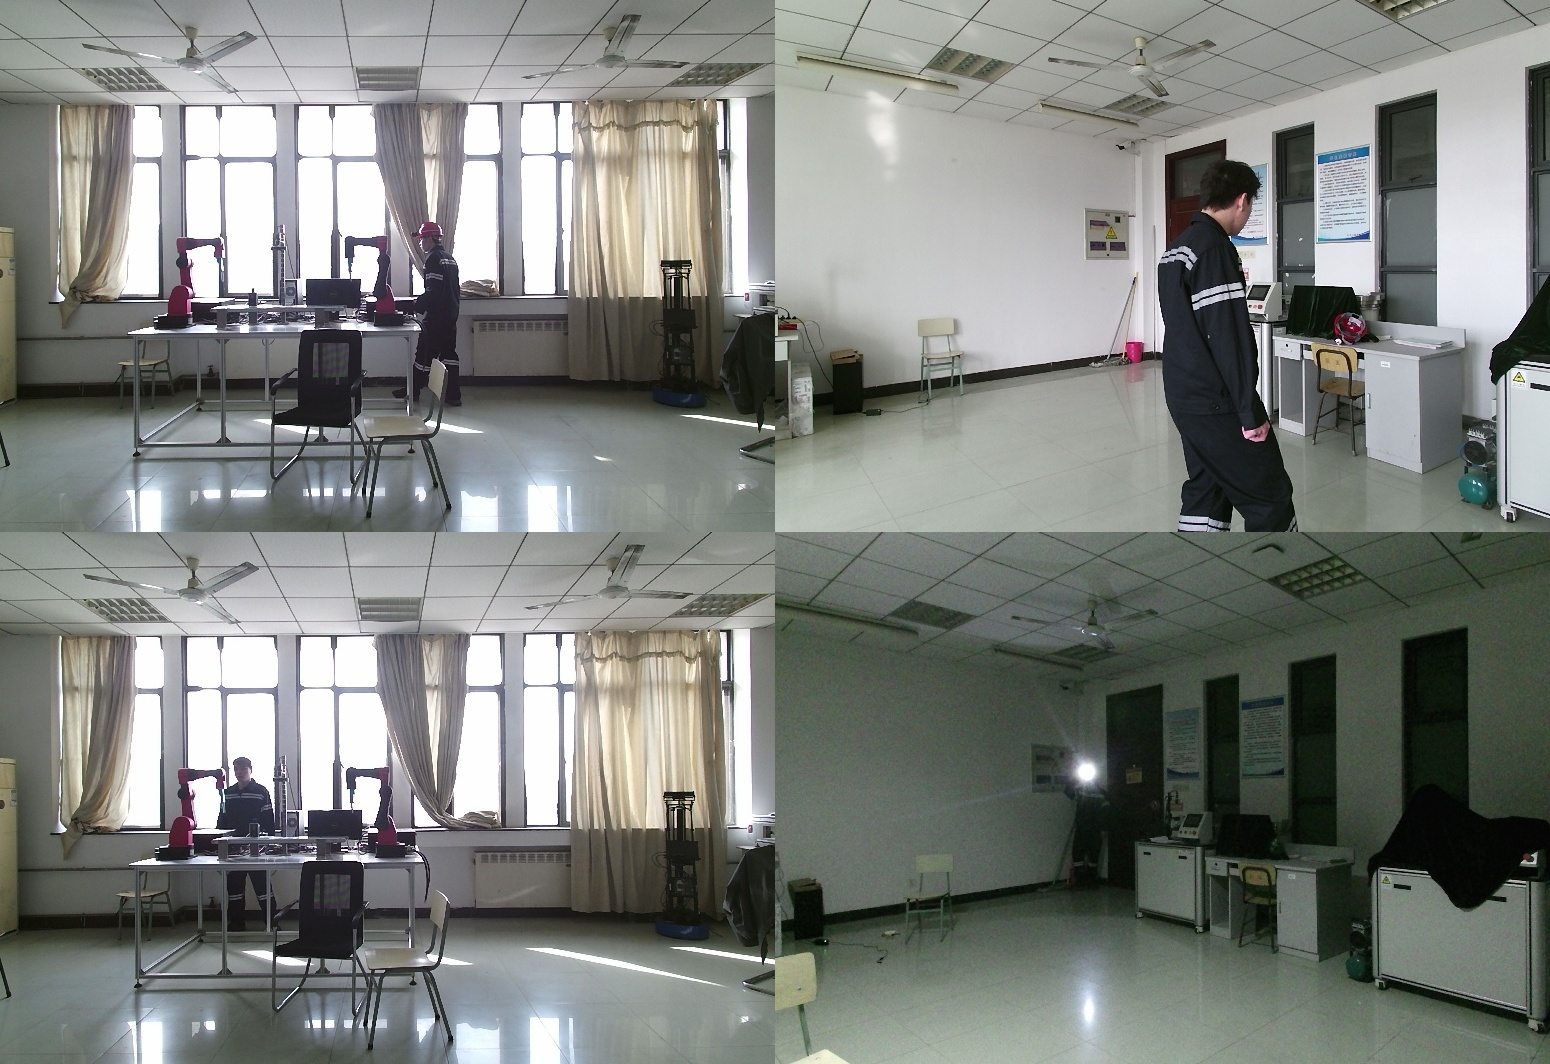person: (1159, 156, 1287, 532), (396, 224, 469, 409), (216, 760, 280, 932), (1063, 769, 1107, 895)
